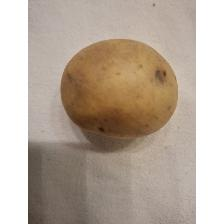Kartoffel: (57, 36, 180, 142)
